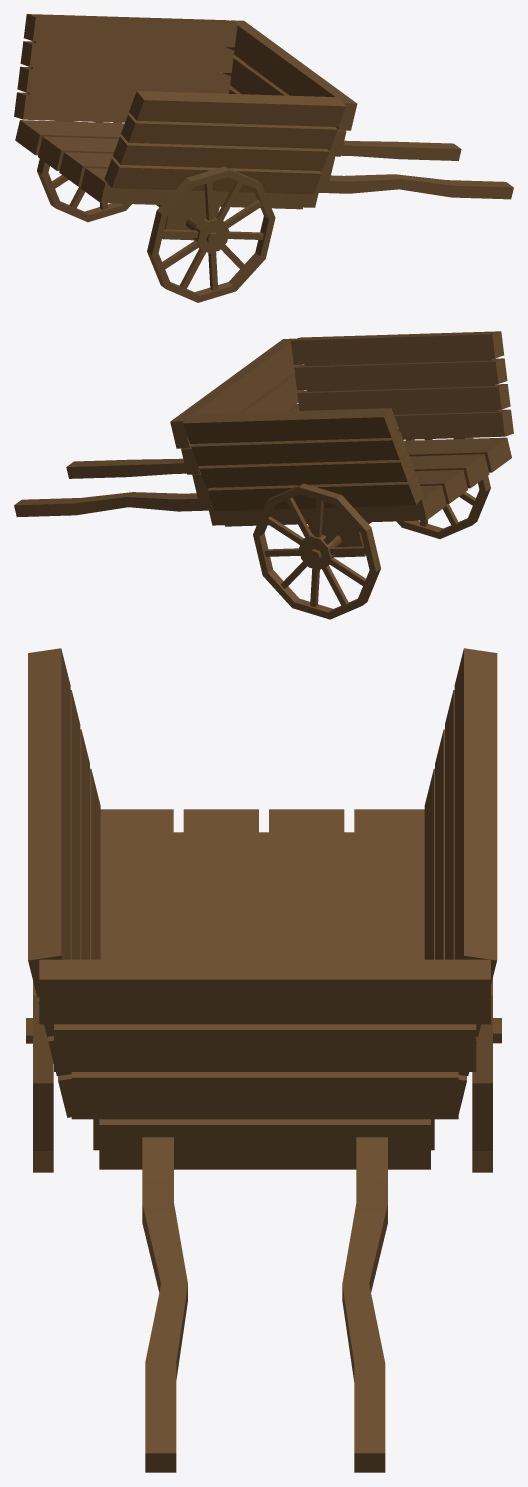
File: Karren.fbx
3 views of the same model, one above another, from view 1: azimuth 30°, elevation 25°; view 2: azimuth 150°, elevation 25°; view 3: azimuth 270°, elevation 25° (orthographic). The views are drawn at different scales.
Parts seen in each view (by area): view 1: Cube.007; view 2: Cube.007; view 3: Cube.007.
Boxes of the visible parts, x1,y1,x2,y2 form: Cube.007: (14,14,513,302); Cube.007: (14,331,513,619); Cube.007: (26,648,501,1472).
Bounding box in the file's own units: 642 × 317 × 311.
